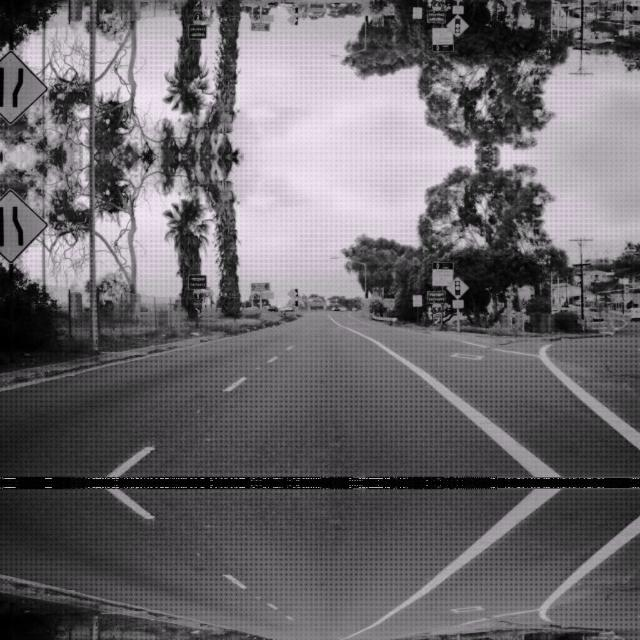signalAhead: (446, 275, 468, 297), (446, 15, 468, 37)
